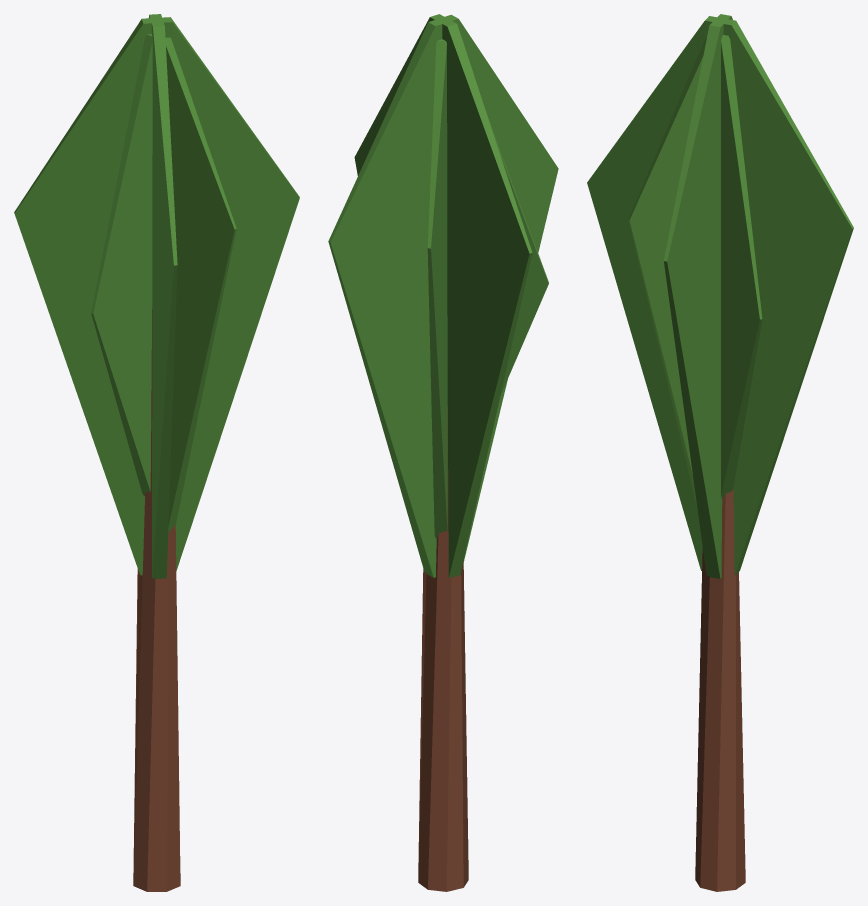
The model's file is Tree_31_summer_mat.fbx.
3 views of the same model, side by side, from view 1: azimuth 30°, elevation 25°; view 2: azimuth 150°, elevation 25°; view 3: azimuth 270°, elevation 25° (orthographic).
Parts seen in each view (by area): view 1: Tree_31_summer_mat; view 2: Tree_31_summer_mat; view 3: Tree_31_summer_mat.
Part boxes in pixels (x1,y1,x2,y2): Tree_31_summer_mat: (14,14,299,891); Tree_31_summer_mat: (328,14,558,891); Tree_31_summer_mat: (587,14,853,891).
Bounding box in the file's own units: 3.38 × 12.04 × 3.38.
